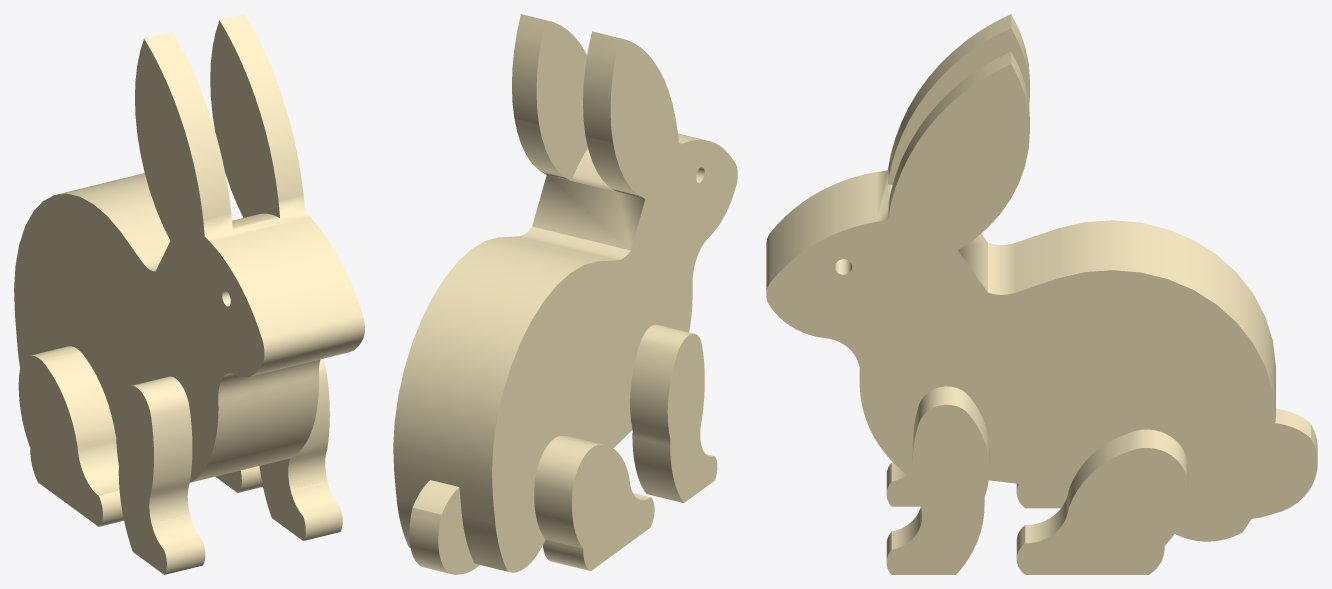
Rendered from rabbit.gltf.
3 views of the same model, side by side, from view 1: azimuth 30°, elevation 25°; view 2: azimuth 150°, elevation 25°; view 3: azimuth 270°, elevation 25° (orthographic). The views are drawn at different scales.
Parts seen in each view (by area): view 1: root; view 2: root; view 3: root.
Boxes of the visible parts, <box> form: root: <box>14,14,364,574</box>; root: <box>393,14,737,574</box>; root: <box>766,14,1317,574</box>.
Size of the model in its own units: 0.119 by 0.3131 by 0.3176.
